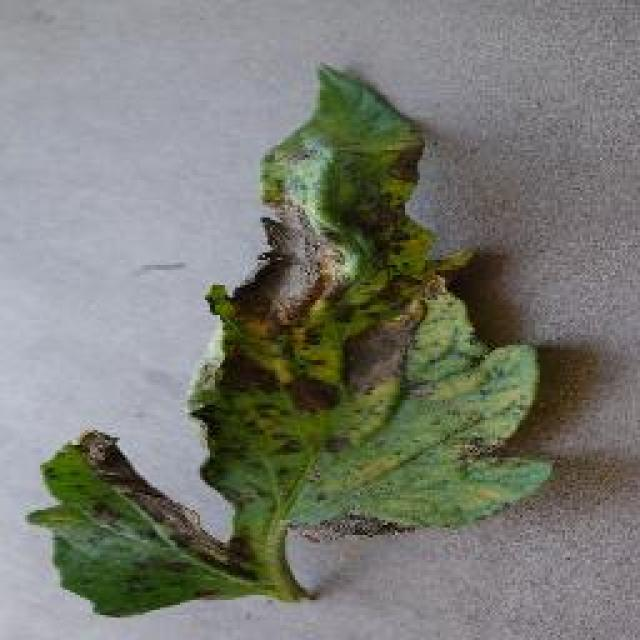Tomato___Early_blight: (30, 67, 565, 617)
